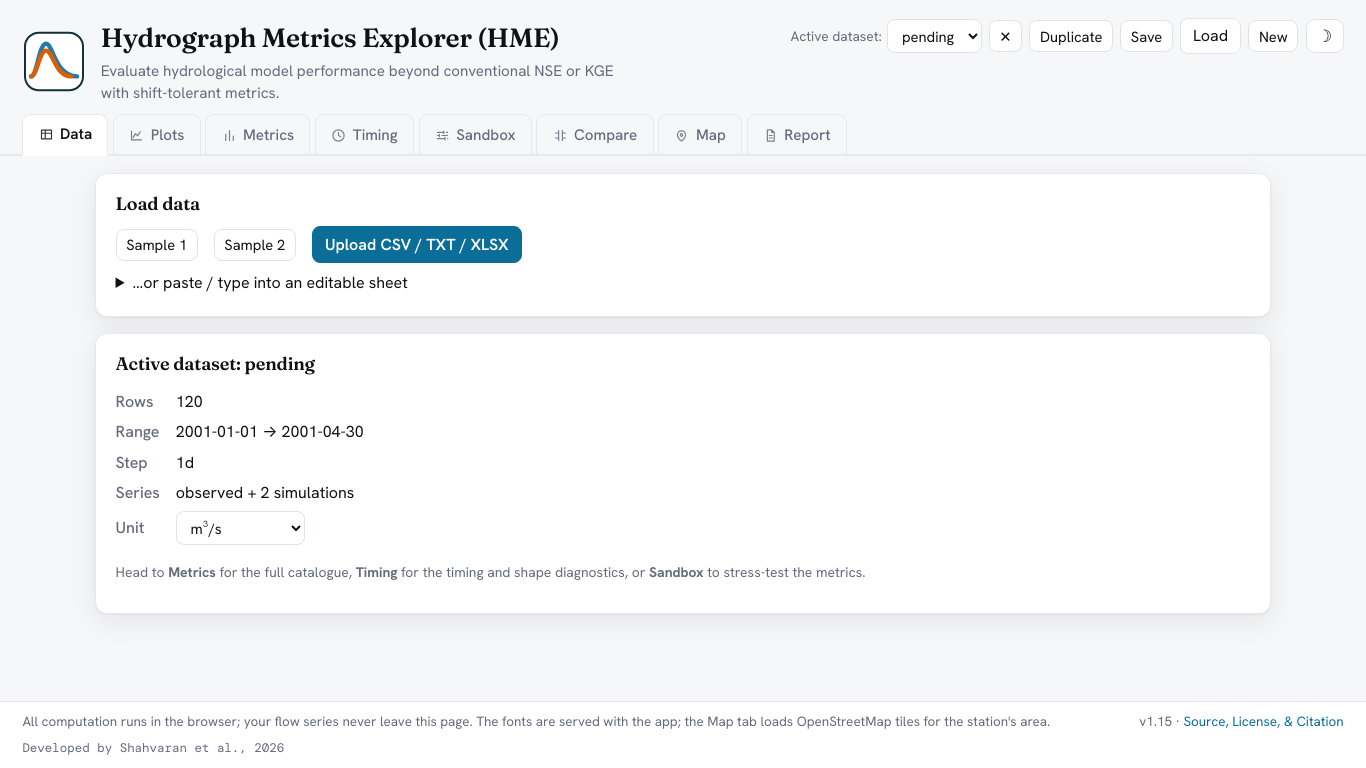
Test: claims-05: the Report tab no longer promises a provenance appendix
Click the tab "Report" at (797, 135), box [747,114,847,156]
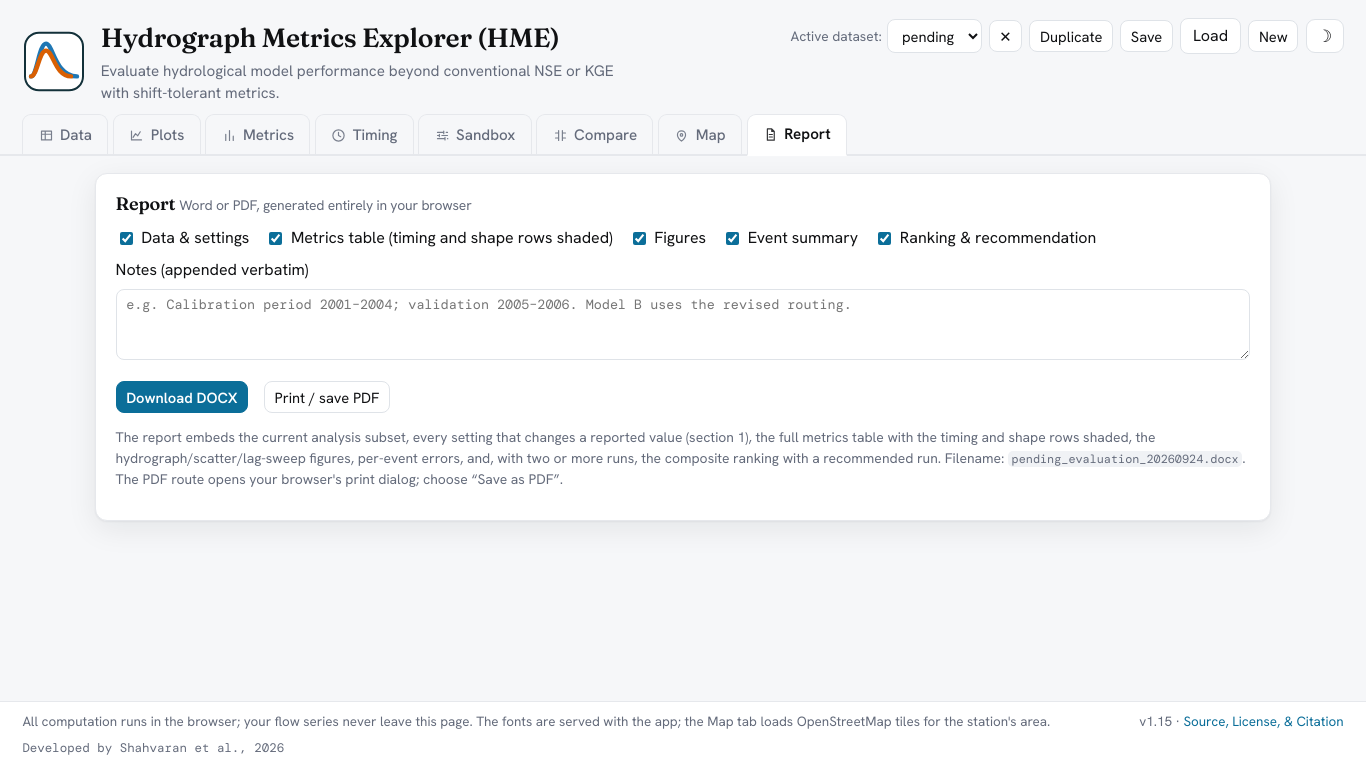
Check: the text "Word or PDF, generated entirely in your browser" is shown, box [179,196,472,214]
Check: the text "every setting that changes a reported value (section 1)" is shown, box [116,428,1156,467]
